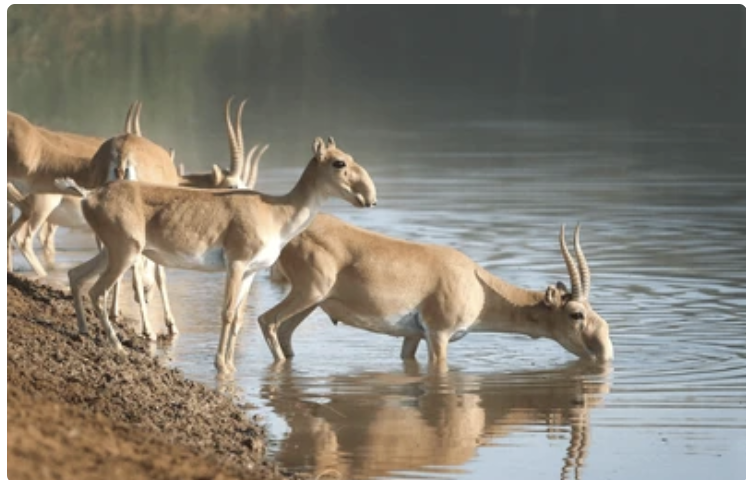saiga: (65, 114, 382, 381), (269, 197, 622, 411)
